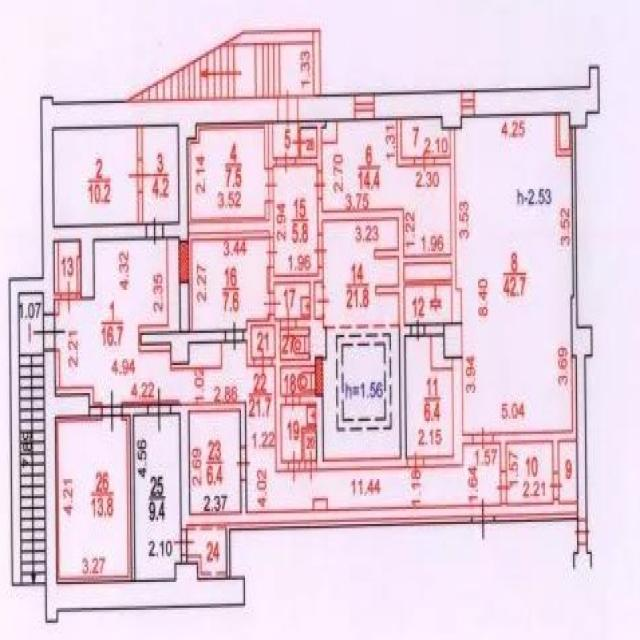Bathrooms: (282, 406, 316, 460), (275, 285, 309, 318), (281, 368, 314, 394), (281, 332, 309, 358)
Corridors: (55, 239, 500, 511), (189, 231, 269, 329), (134, 416, 180, 579), (406, 337, 453, 455), (275, 169, 317, 272), (508, 445, 552, 501), (188, 526, 225, 578), (402, 119, 450, 157), (406, 287, 452, 321), (55, 242, 80, 291), (560, 443, 576, 501), (273, 123, 297, 156), (252, 328, 274, 357), (302, 129, 316, 156), (316, 284, 321, 317)
Doors: (31, 312, 66, 351), (471, 497, 495, 542), (148, 387, 171, 433), (277, 86, 299, 129), (102, 389, 123, 434), (127, 158, 152, 194), (59, 279, 77, 315), (235, 446, 253, 481), (494, 470, 512, 505), (173, 528, 194, 557), (253, 347, 272, 378), (279, 306, 297, 338), (225, 321, 243, 353), (146, 215, 164, 247), (472, 426, 494, 452), (313, 233, 328, 268), (276, 150, 296, 176), (573, 519, 592, 546), (264, 168, 279, 202), (407, 447, 424, 477), (414, 150, 435, 174), (262, 292, 282, 316), (287, 449, 300, 485), (292, 128, 308, 157), (264, 237, 279, 267), (312, 170, 327, 199), (409, 317, 425, 344), (317, 283, 330, 316), (549, 471, 563, 501), (285, 387, 301, 413), (304, 450, 316, 483)
LBwalls: (43, 351, 245, 624), (40, 96, 278, 313), (9, 277, 43, 586), (476, 66, 600, 129), (571, 326, 593, 518), (375, 91, 462, 130), (298, 95, 353, 122), (452, 360, 463, 468), (179, 242, 189, 332), (444, 322, 463, 359), (310, 318, 327, 358), (171, 332, 189, 365), (572, 546, 592, 570), (189, 331, 225, 343), (452, 288, 463, 324), (140, 333, 171, 345), (315, 358, 323, 396), (425, 323, 444, 336), (242, 329, 246, 343), (405, 325, 409, 337)
Offices: (457, 116, 573, 432), (323, 221, 400, 460), (323, 121, 450, 254), (57, 420, 130, 581), (54, 129, 137, 225), (189, 125, 269, 221), (190, 413, 240, 513), (144, 127, 178, 222)
Stairs: (123, 44, 314, 101), (19, 293, 45, 587)
Walls: (300, 130, 456, 471), (171, 402, 470, 532), (244, 313, 314, 472), (494, 357, 577, 473), (224, 29, 322, 95), (555, 117, 579, 326), (122, 404, 148, 582), (189, 201, 274, 239), (269, 267, 324, 320), (495, 503, 578, 523), (295, 122, 327, 170), (397, 120, 415, 168), (268, 122, 276, 169), (424, 456, 452, 468), (226, 525, 231, 577), (137, 128, 143, 157), (138, 194, 143, 224), (90, 406, 102, 417), (462, 433, 473, 445), (297, 319, 310, 328), (54, 291, 62, 301), (181, 556, 188, 563), (77, 292, 80, 300)
Windows: (353, 92, 375, 122), (461, 90, 476, 118)
